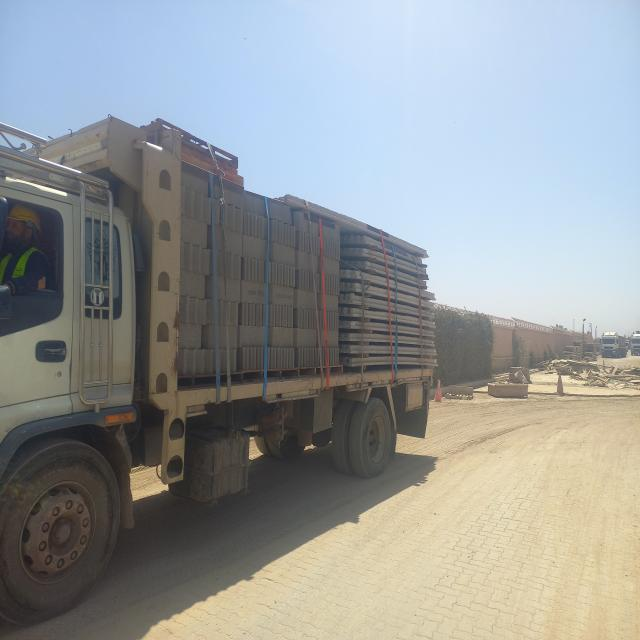bricks: (179, 164, 325, 380), (323, 220, 340, 366)
